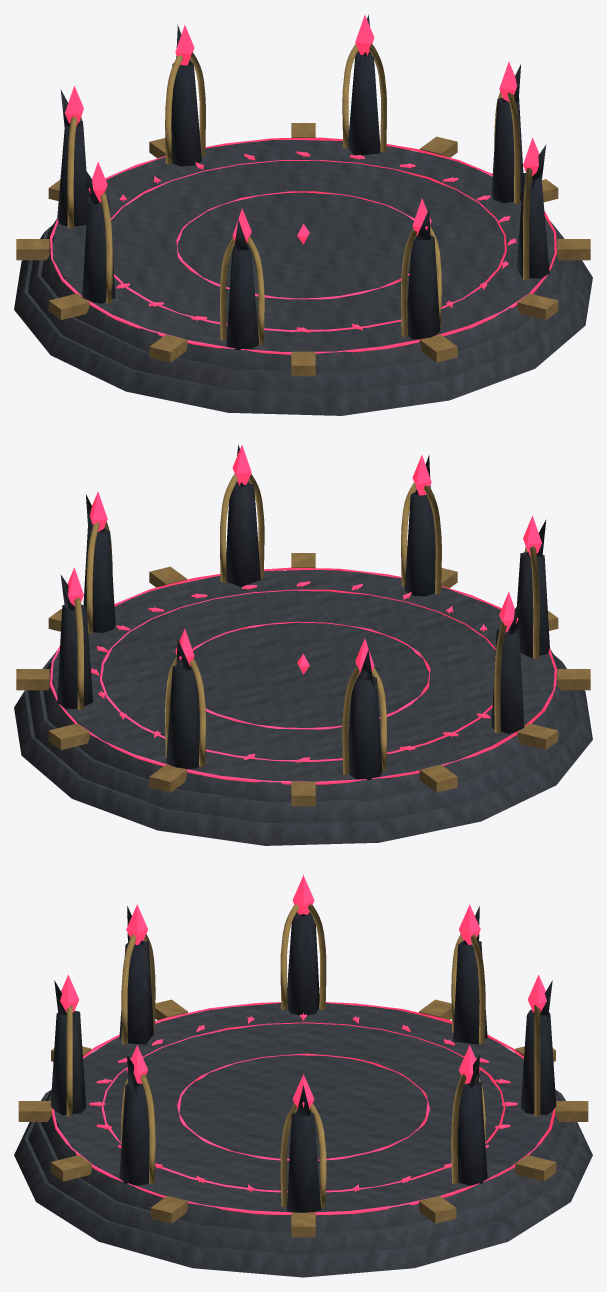
File: red_fountain.gltf
3 views of the same model, one above another, from view 1: azimuth 30°, elevation 25°; view 2: azimuth 150°, elevation 25°; view 3: azimuth 270°, elevation 25° (orthographic).
Visible parts, largest first — view 1: red_fountain; view 2: red_fountain; view 3: red_fountain.
Boxes of the visible parts, x1,y1,x2,y2 form: red_fountain: [14, 14, 592, 415]; red_fountain: [14, 444, 592, 845]; red_fountain: [14, 874, 592, 1277].
Bounding box in the file's own units: 7.88 × 2.72 × 7.88.
4 materials, 2 textured.
